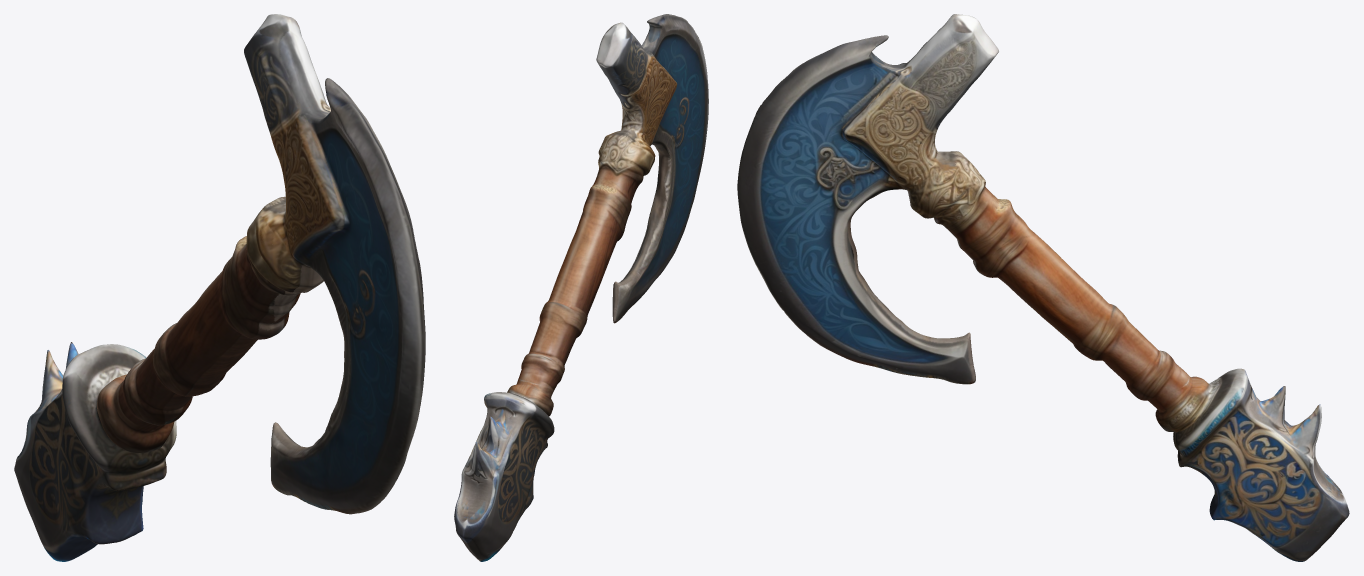
File: Axe.fbx
3 views of the same model, side by side, from view 1: azimuth 30°, elevation 25°; view 2: azimuth 150°, elevation 25°; view 3: azimuth 270°, elevation 25° (orthographic). The views are drawn at different scales.
Parts seen in each view (by area): view 1: Mesh_0; view 2: Mesh_0; view 3: Mesh_0.
Part boxes in pixels (x1,y1,x2,y2): Mesh_0: [14, 14, 425, 561]; Mesh_0: [454, 14, 708, 561]; Mesh_0: [737, 14, 1349, 561].
Size of the model in its own units: 29.6 by 197 by 200.
1 material, 1 textured.
